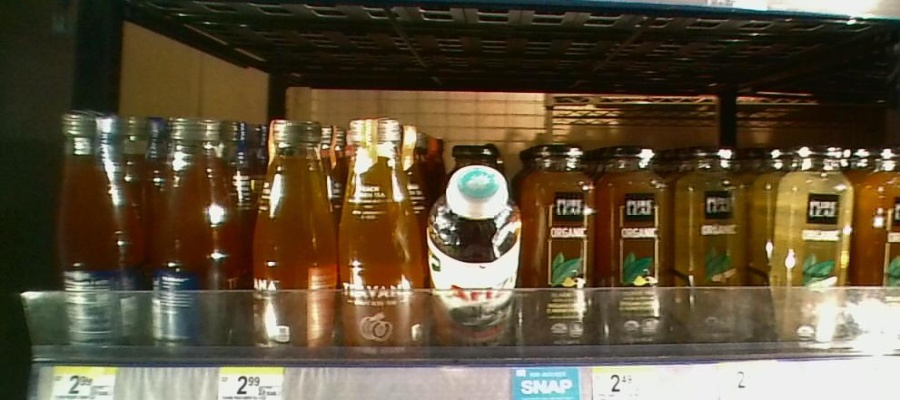bottle: (143, 108, 238, 352), (252, 115, 339, 359), (55, 106, 140, 353), (341, 115, 420, 361), (424, 162, 519, 347), (771, 146, 852, 351), (669, 146, 747, 347), (598, 145, 667, 345), (525, 145, 593, 346), (855, 148, 900, 353)
